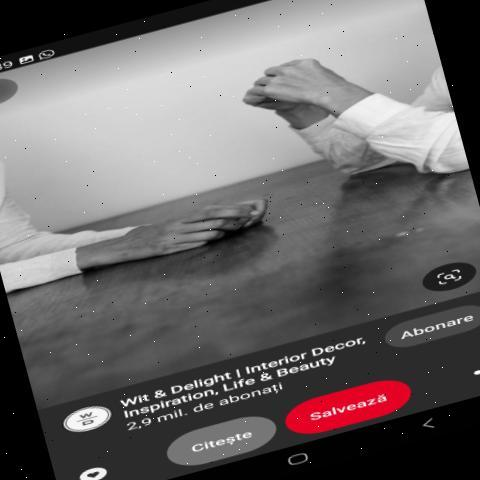Hands: (114, 182, 304, 269), (224, 50, 368, 128)
